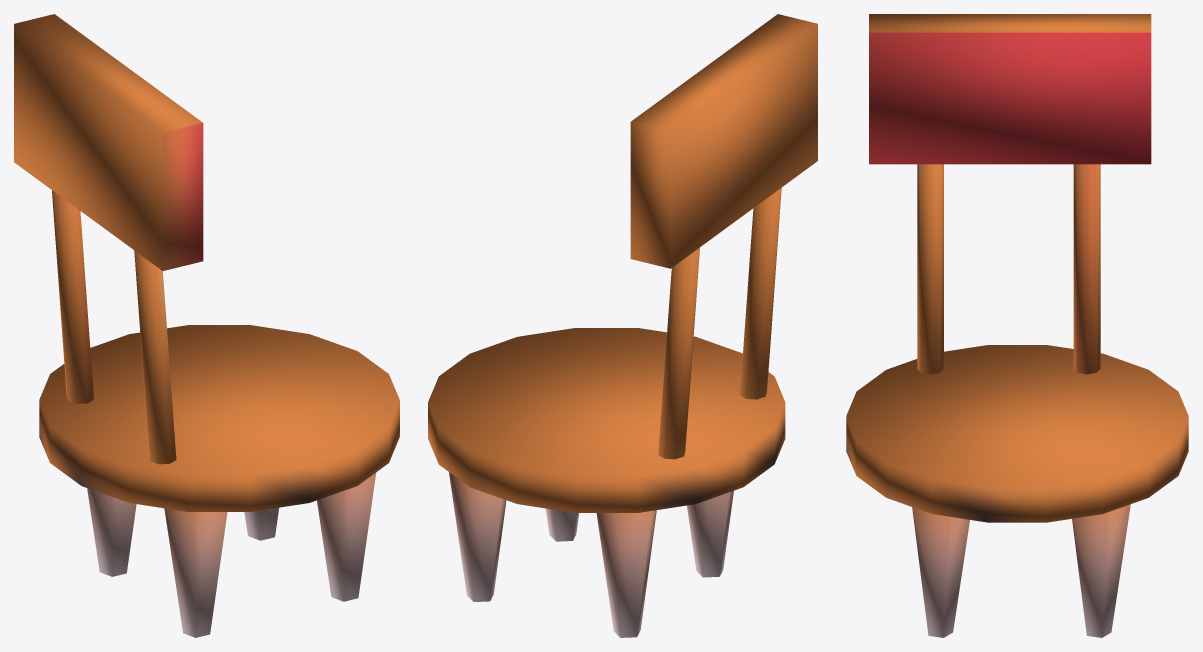
File: chair_01.fbx
3 renders of one model, left to right at view 1: azimuth 30°, elevation 25°; view 2: azimuth 150°, elevation 25°; view 3: azimuth 270°, elevation 25°, orthographic. The views are drawn at different scales.
Visible parts, largest first — view 1: Cylinder.003; view 2: Cylinder.003; view 3: Cylinder.003.
Boxes of the visible parts, x1,y1,x2,y2 form: Cylinder.003: (14, 14, 399, 637); Cylinder.003: (428, 14, 817, 637); Cylinder.003: (846, 14, 1188, 637).
Bounding box in the file's own units: 59.15 × 99.93 × 60.06.
